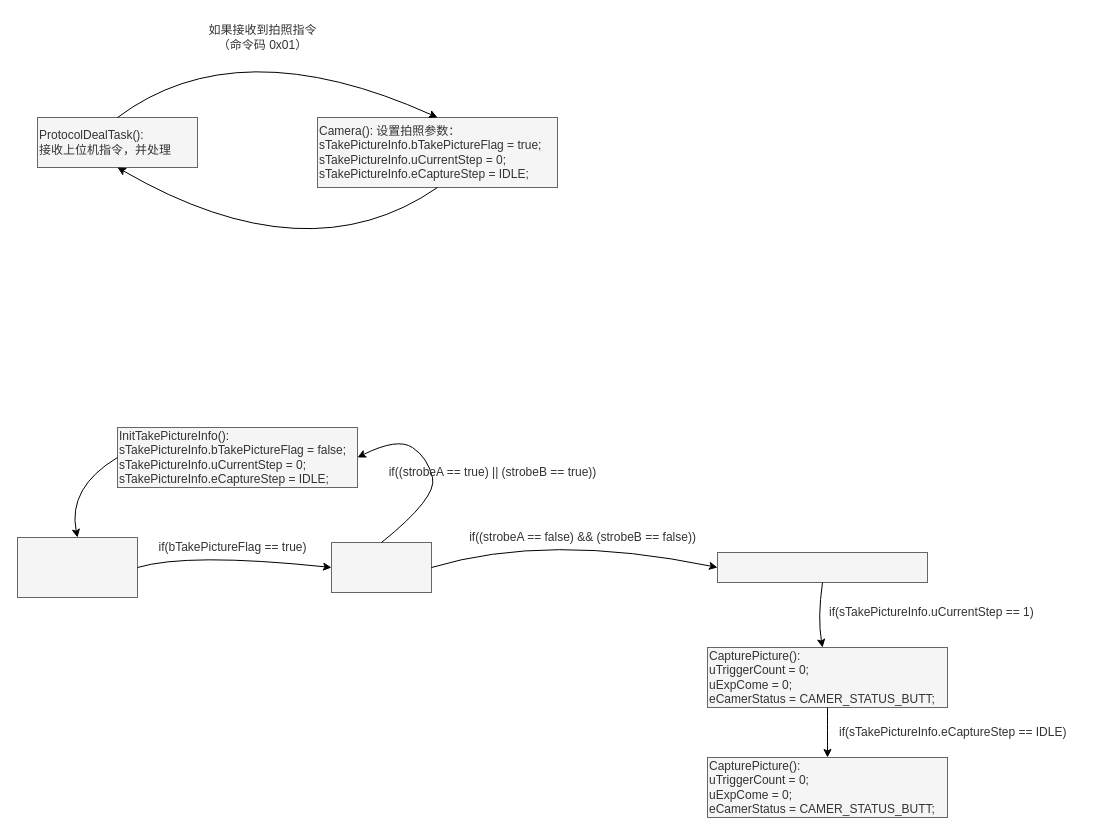
Some shapes in this 1105 by 835 pixel diagram are drawn without their labels. Each missing label, with the centre of its shape:
sTakePictureInfo.uCurrentStep = 1;: point 822,567
TakePicturesTask():: point 77,567
读取 strobeA 和 strobeB 信号: point 381,567
